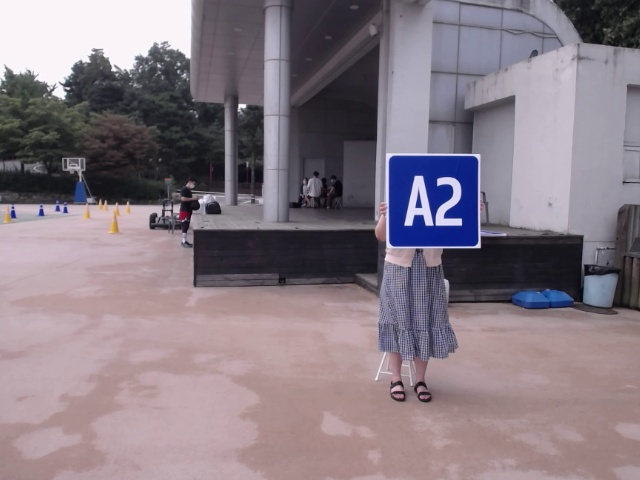delivery_a2: (387, 153, 480, 248)
